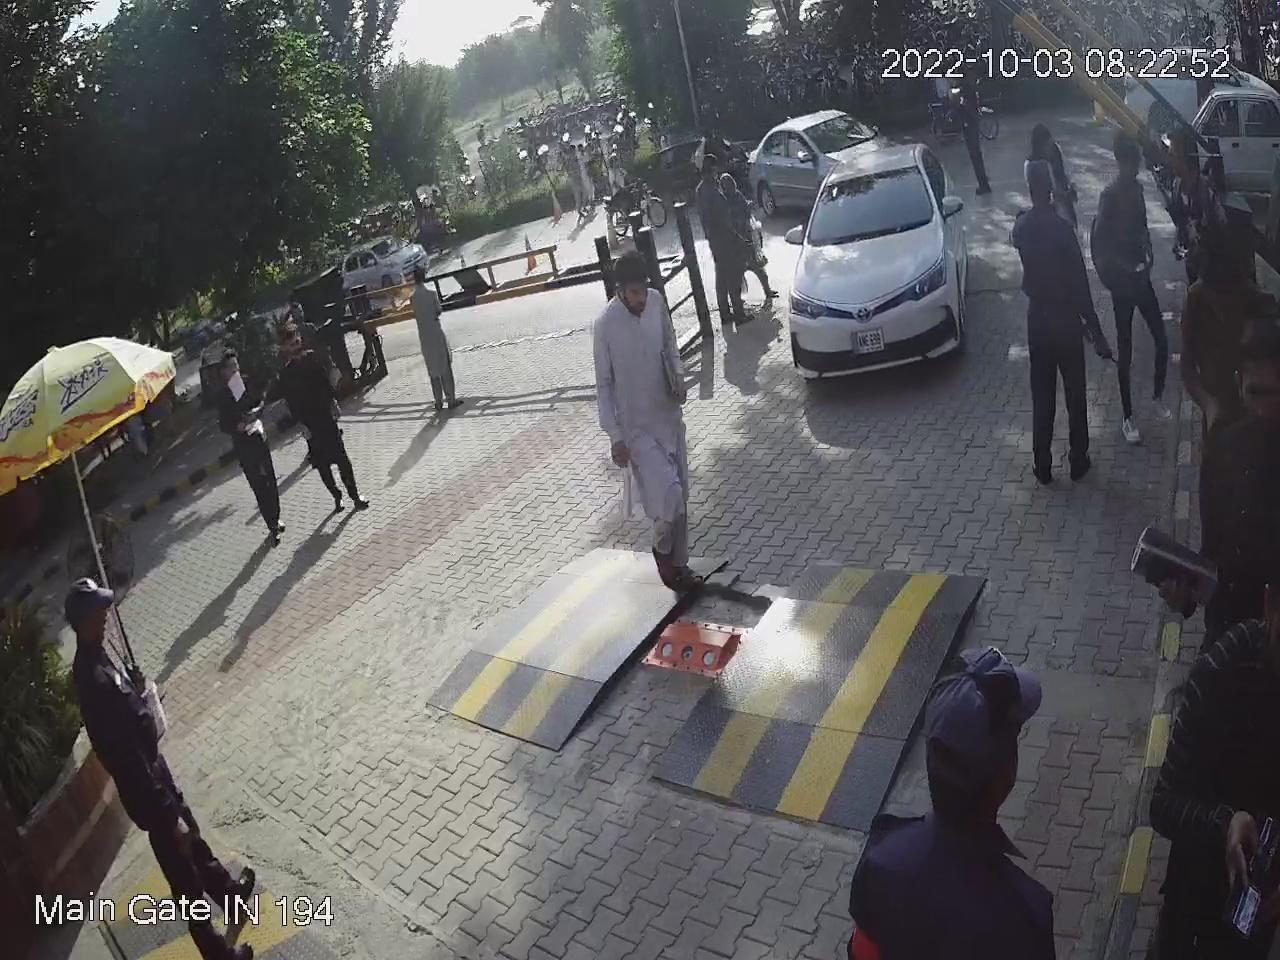windshield: (808, 160, 938, 245)
